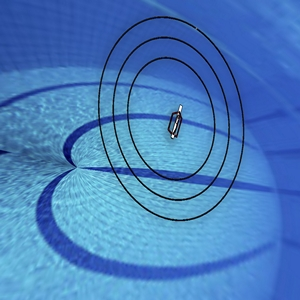circle: (88, 8, 258, 227)
submarine: (157, 94, 194, 144)
